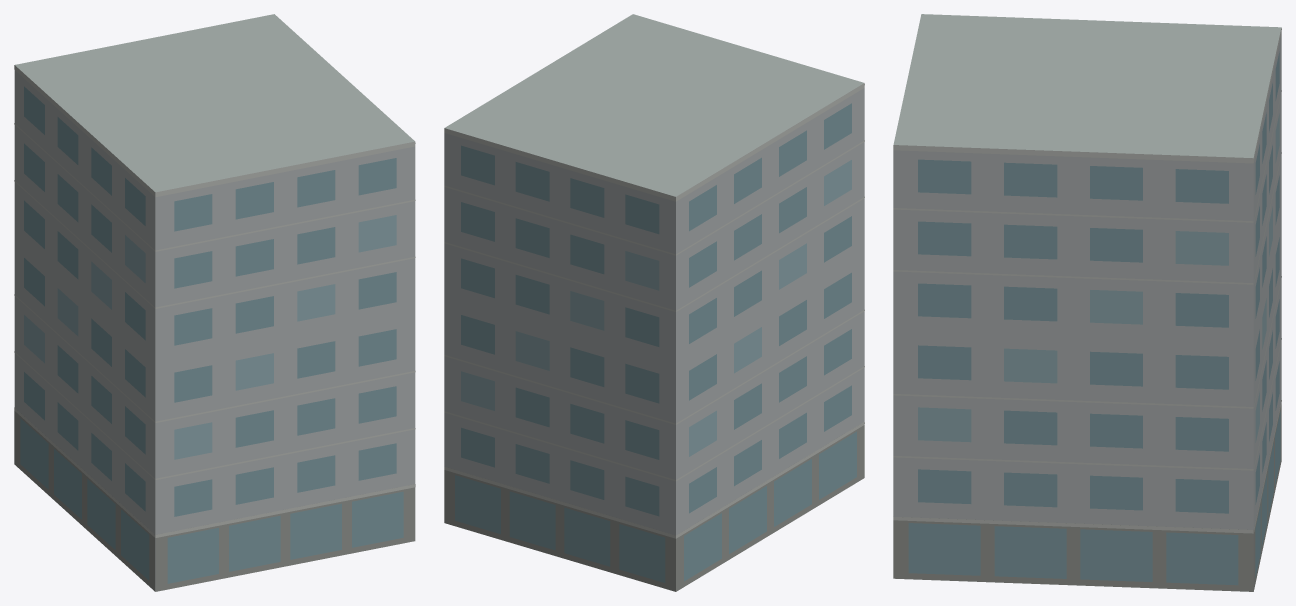
Rendered from survey-upis-32499021.glb.
The picture shows the model from 3 angles, left to right: view 1: azimuth 30°, elevation 25°; view 2: azimuth 150°, elevation 25°; view 3: azimuth 270°, elevation 25°; orthographic projection. The views are drawn at different scales.
Parts seen in each view (by area): view 1: survey-upis-32499021.tmp; view 2: survey-upis-32499021.tmp; view 3: survey-upis-32499021.tmp.
Boxes of the visible parts, bbox=[...] form: survey-upis-32499021.tmp: bbox=[14, 14, 415, 591]; survey-upis-32499021.tmp: bbox=[444, 14, 864, 591]; survey-upis-32499021.tmp: bbox=[893, 14, 1281, 591].
Size of the model in its own units: 14.25 by 19.95 by 16.2.
